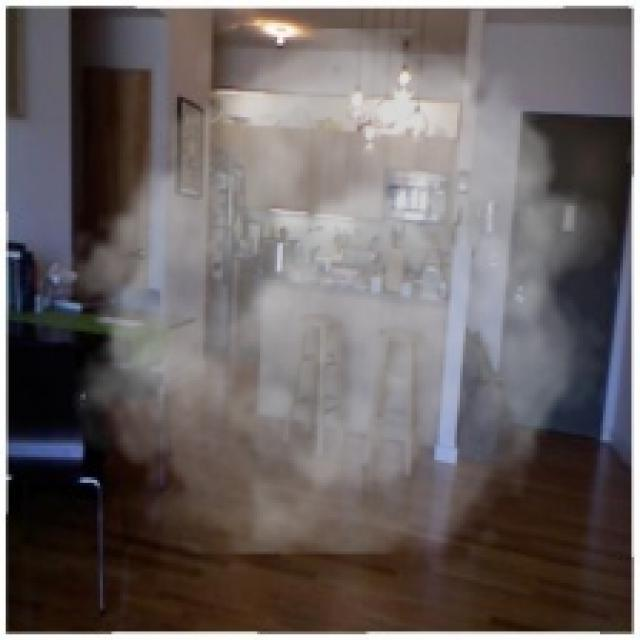Smoke: (54, 28, 617, 554)
